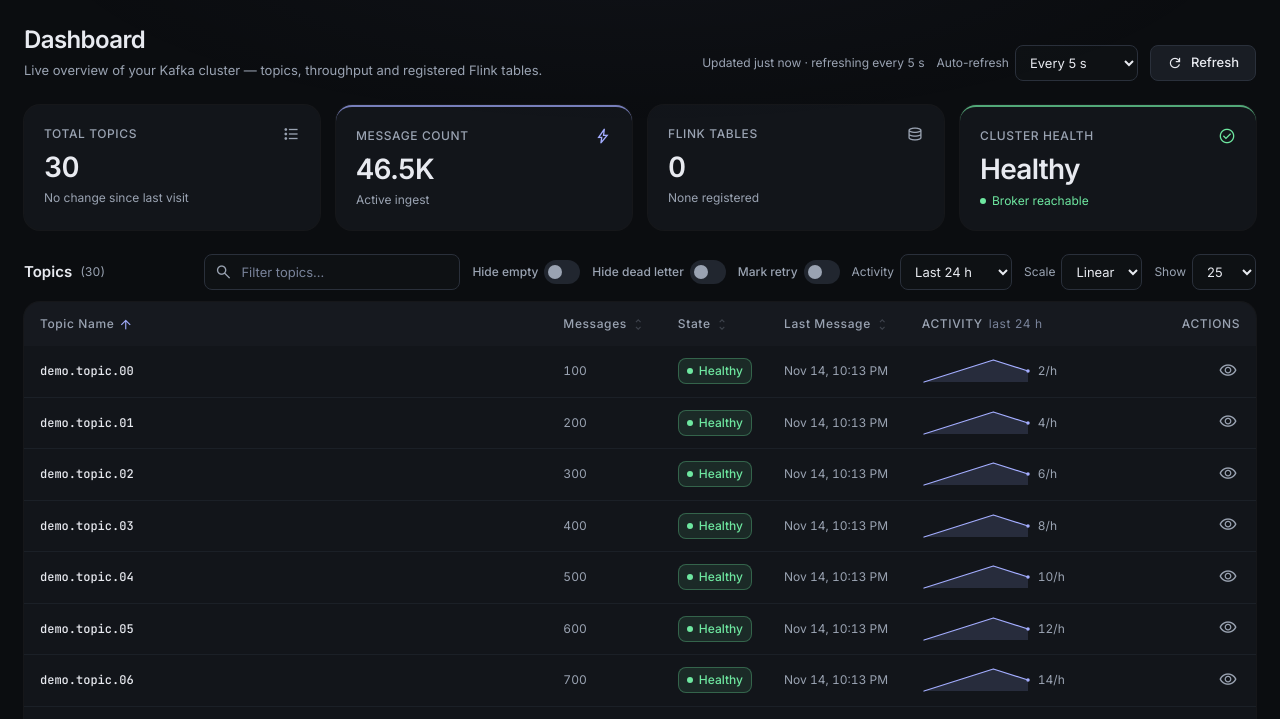
Dashboard activity column › changes the scale without asking the server again, and says the scale changed
Step 1. Select "Log" in the dropdown labelled "Scale" → (1102, 272), box [1061,254,1142,290]
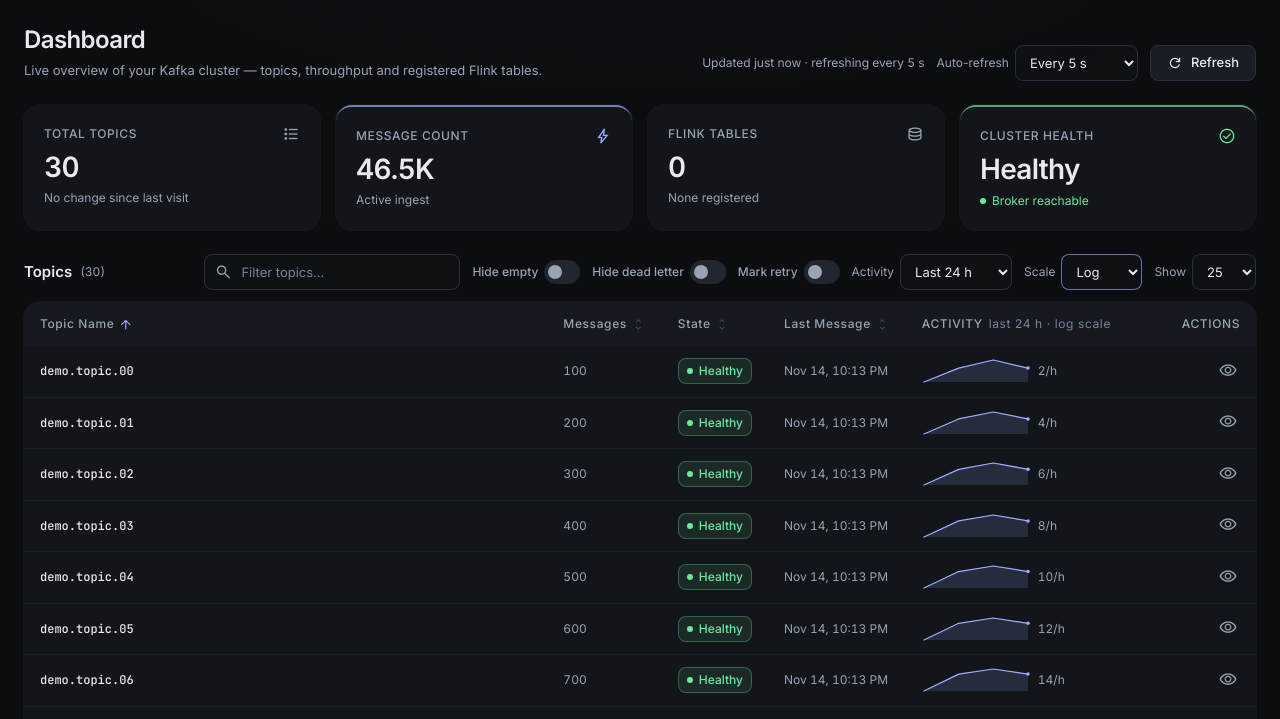
Now the column heading "Activity last 24 h · log scale" is shown, box [906,302,1166,346]
